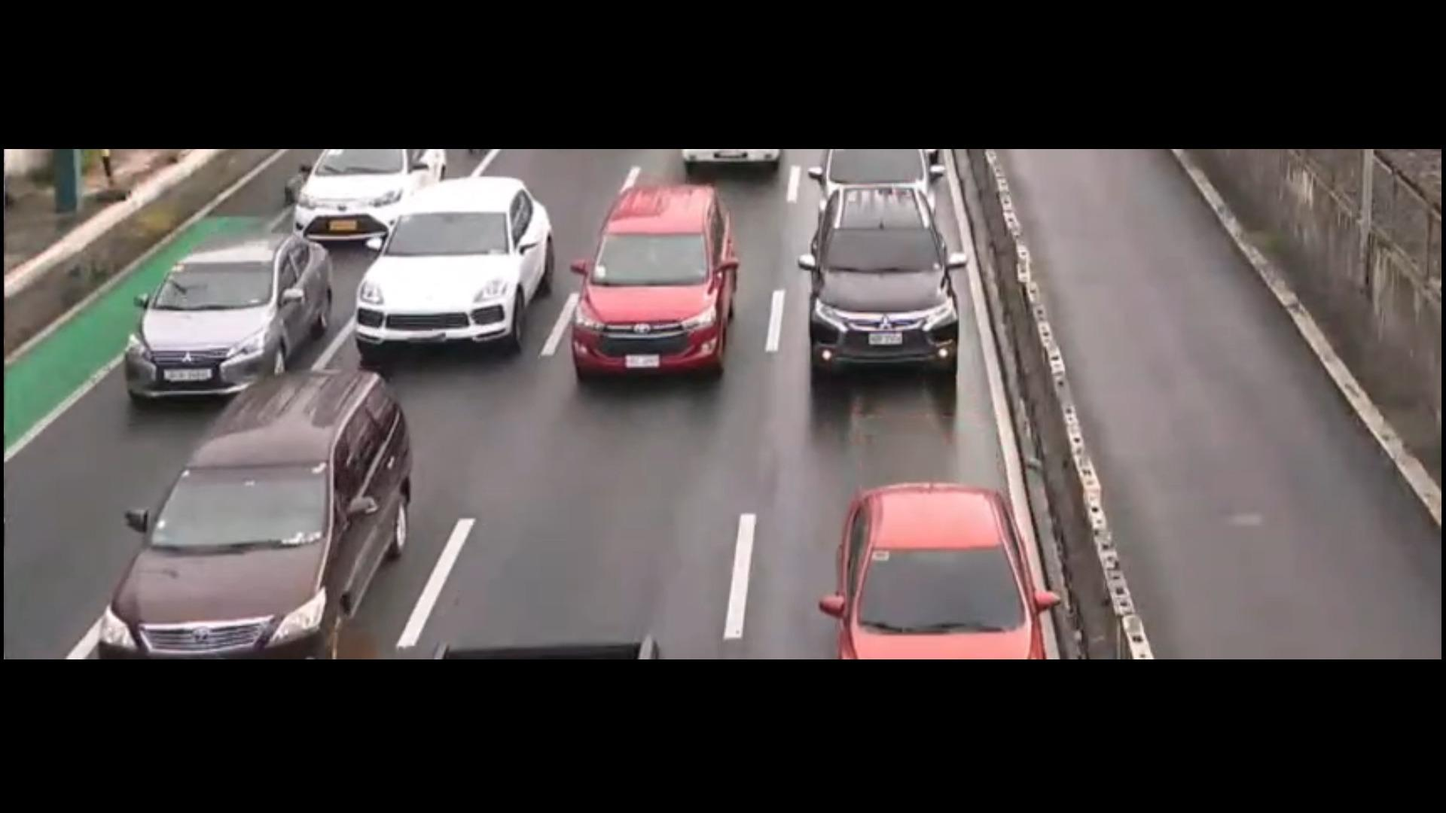SUV: (88, 356, 441, 669), (778, 175, 1000, 392), (564, 164, 752, 407)
Sedan: (811, 450, 1059, 651), (105, 224, 337, 428), (340, 166, 558, 368)
